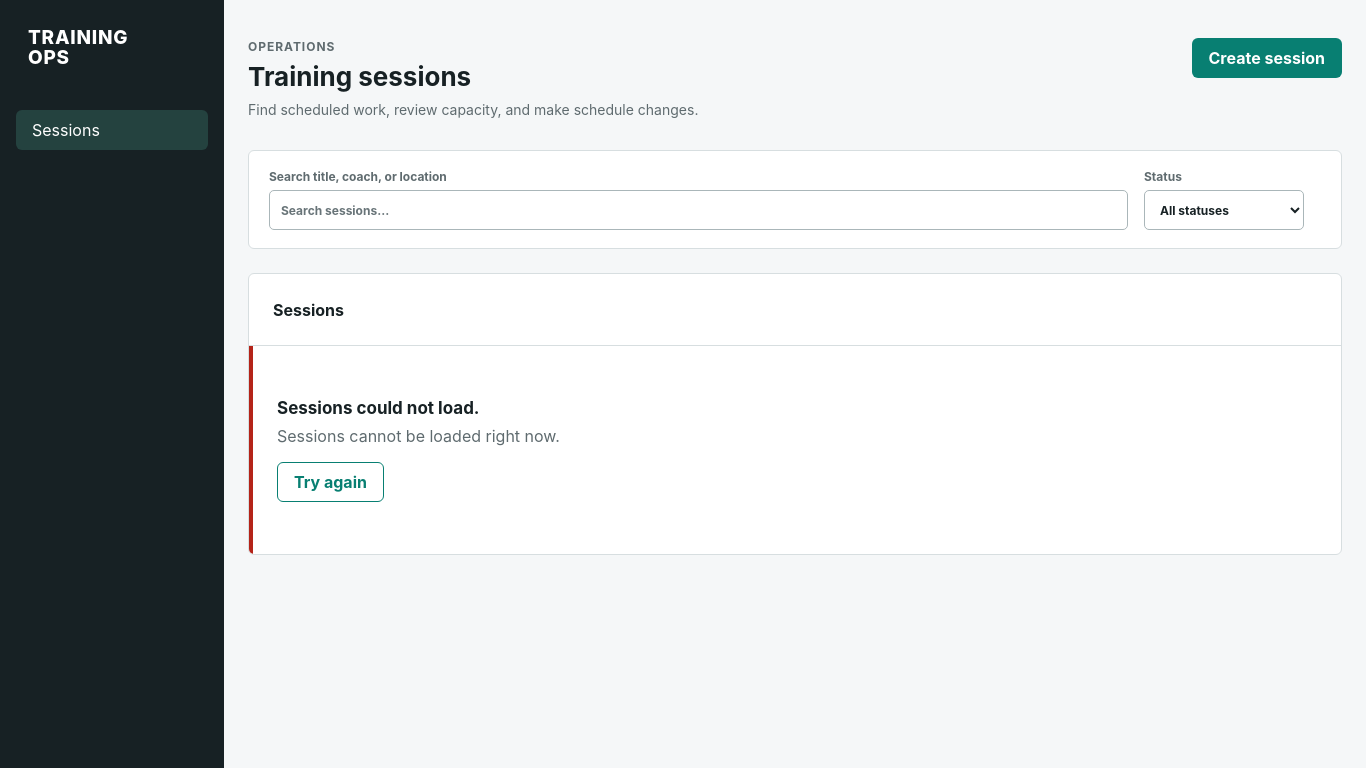
Test: TrainingSessionsPage › shows list request errors and recovers on retry
Expected: the heading "Sessions could not load." is shown, [277,398,480,418]
Click the button "Try again".
click(330, 482)  # box [277,462,384,502]
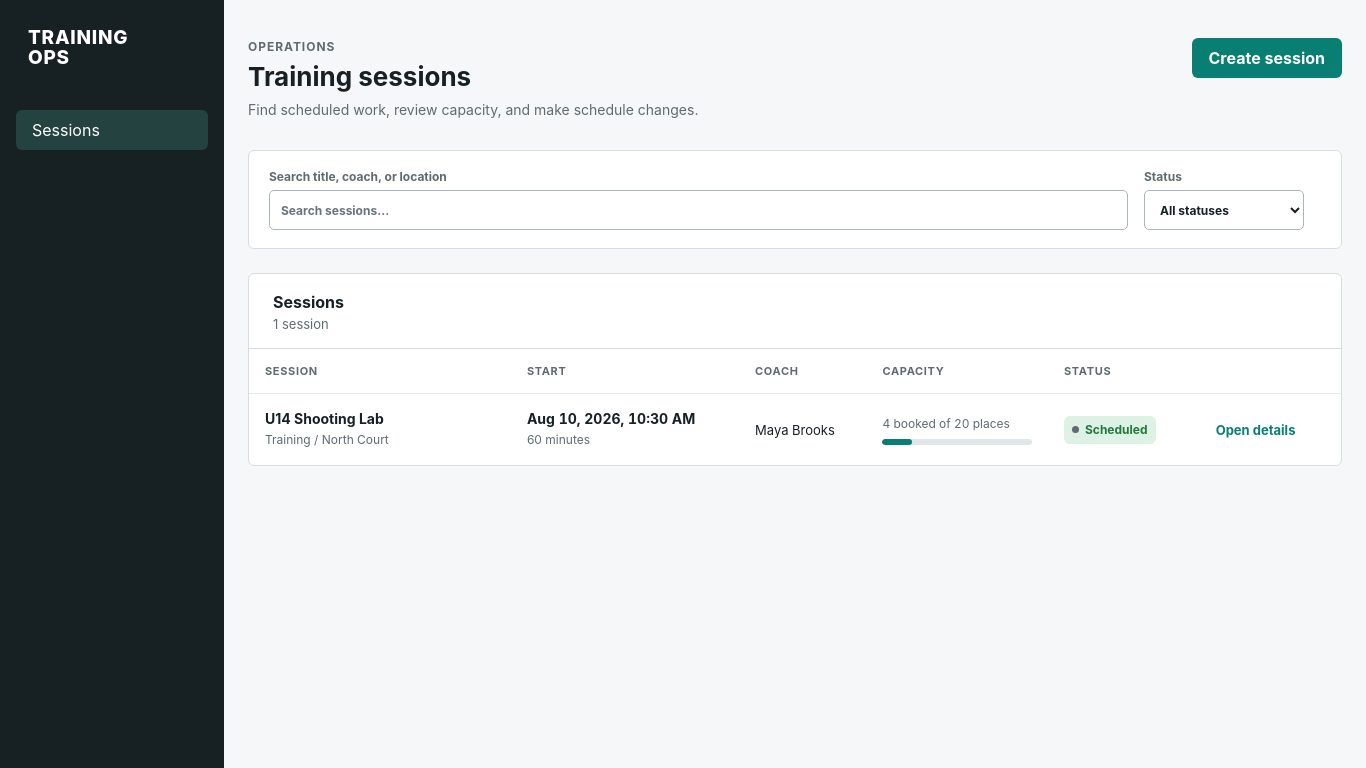
Now the text "U14 Shooting Lab" is shown, box [265,410,384,427]
